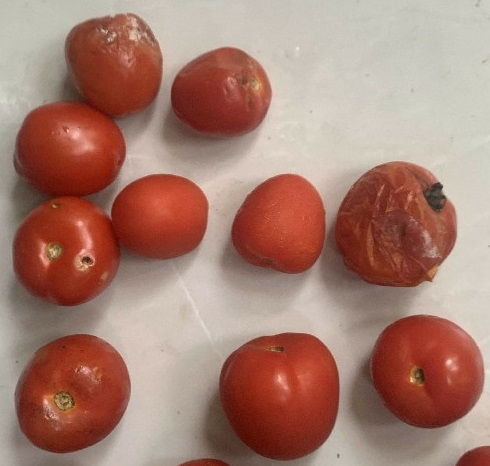NG: (336, 158, 459, 287), (10, 193, 117, 308), (62, 10, 165, 117), (170, 41, 277, 139)
OK: (206, 327, 351, 459), (11, 326, 137, 459), (365, 311, 486, 433), (9, 98, 127, 198), (229, 166, 331, 278), (109, 167, 212, 264)
